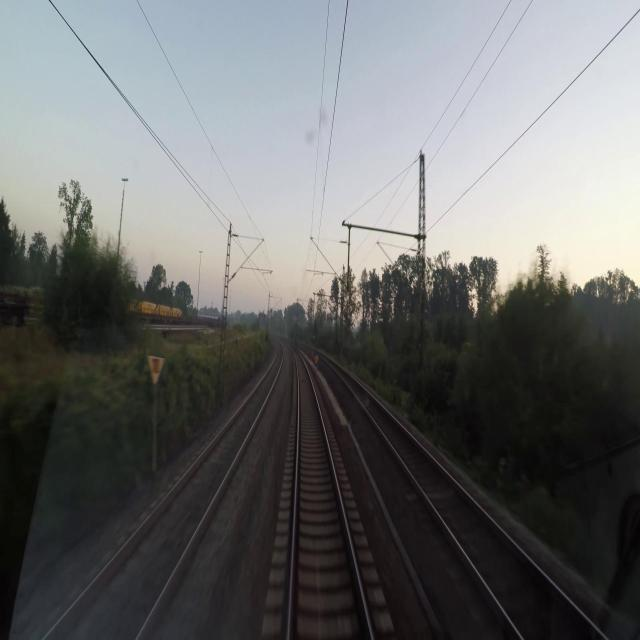rail-track: (291, 351, 370, 639)
